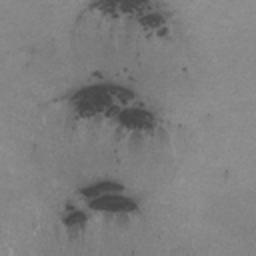Iron sheet ash: (69, 82, 156, 131), (86, 0, 169, 38), (76, 180, 138, 212), (64, 200, 86, 228), (92, 70, 104, 79)
